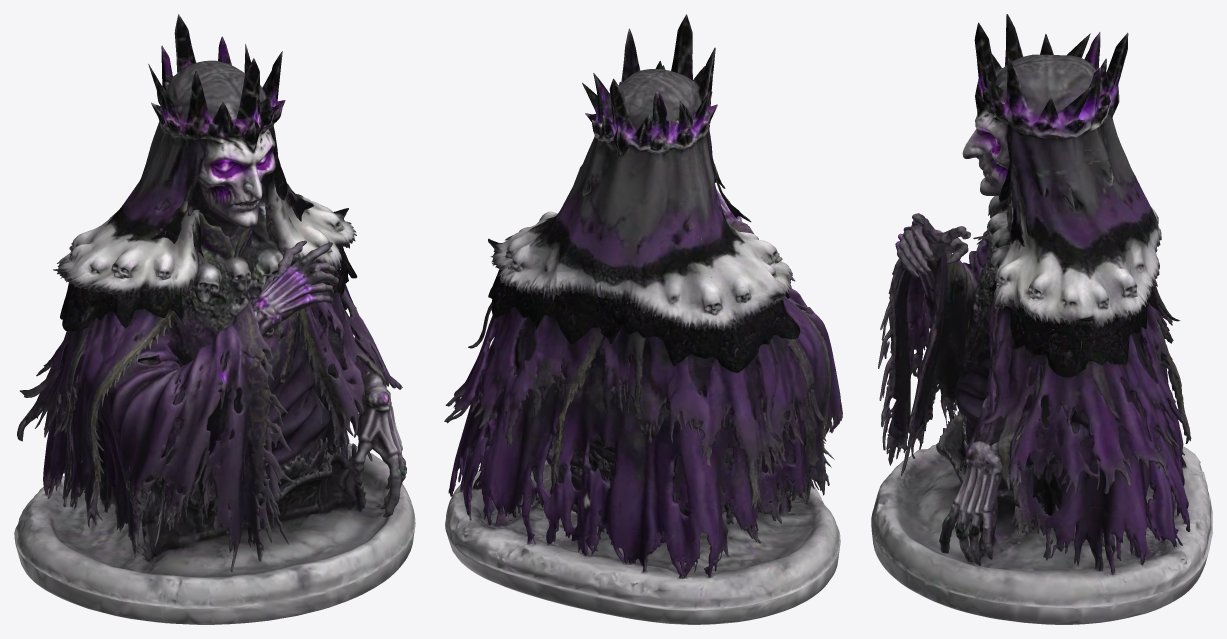
Rendered from hero_grave.glb.
3 views of the same model, side by side, from view 1: azimuth 30°, elevation 25°; view 2: azimuth 150°, elevation 25°; view 3: azimuth 270°, elevation 25° (orthographic).
Size of the model in its own units: 1.37 by 1.9 by 1.14.
Materials: 1 (1 with a texture image).
